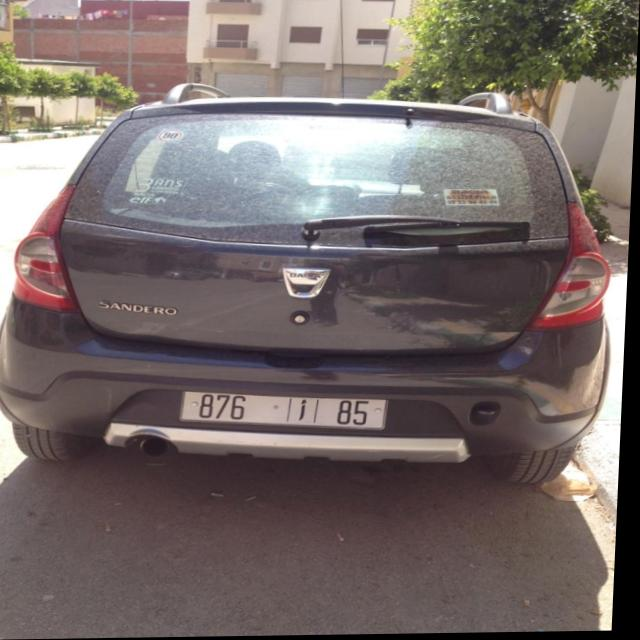License-Plate: (184, 393, 391, 431)
